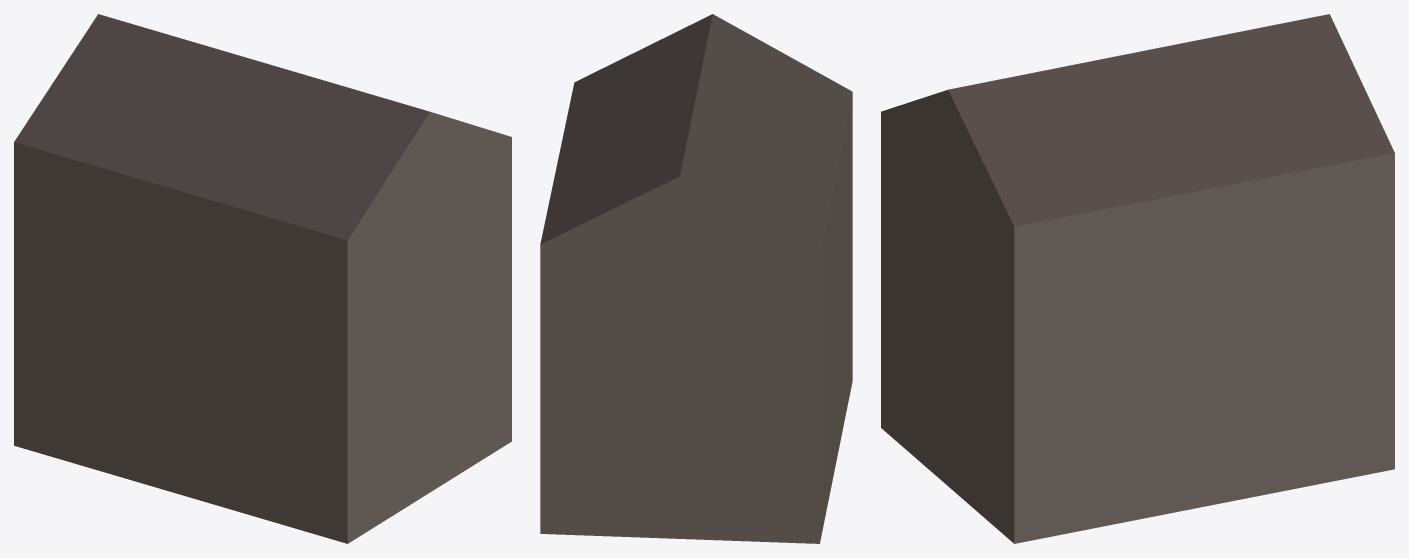
3 views of the same model, side by side, from view 1: azimuth 30°, elevation 25°; view 2: azimuth 150°, elevation 25°; view 3: azimuth 270°, elevation 25° (orthographic). The views are drawn at different scales.
Visible parts, largest first — view 1: HP-w505643589; view 2: HP-w505643589; view 3: HP-w505643589.
Part boxes in pixels (bbox=[...]): HP-w505643589: bbox=[14, 14, 511, 543]; HP-w505643589: bbox=[540, 14, 852, 543]; HP-w505643589: bbox=[881, 14, 1394, 543].
Size of the model in its own units: 11.72 by 11.28 by 13.25.
